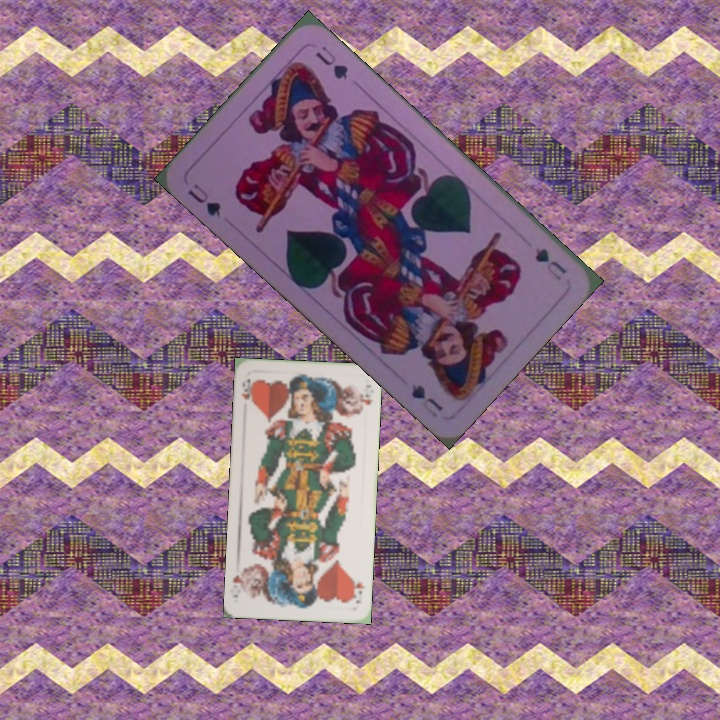GU: (183, 179, 224, 220), (531, 244, 569, 283)
HO: (348, 574, 367, 606), (238, 375, 256, 408)
